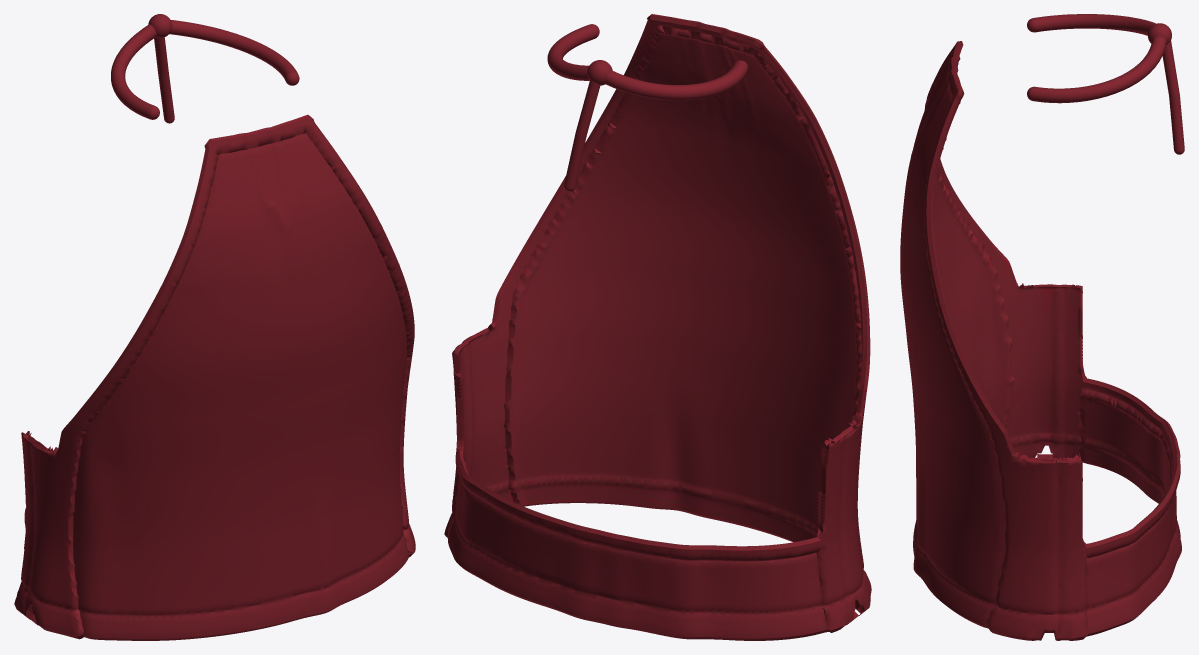
Rendered from 07_top_halter_pbr.glb.
The picture shows the model from 3 angles, left to right: view 1: azimuth 30°, elevation 25°; view 2: azimuth 150°, elevation 25°; view 3: azimuth 270°, elevation 25°; orthographic projection. The views are drawn at different scales.
Visible parts, largest first — view 1: Camiseta PBR, Cordones y adornos; view 2: Camiseta PBR, Cordones y adornos; view 3: Camiseta PBR, Cordones y adornos.
Boxes of the visible parts, x1=… form: Camiseta PBR: x1=14, y1=114, x2=415, y2=640; Cordones y adornos: x1=111, y1=14, x2=299, y2=123; Camiseta PBR: x1=444, y1=14, x2=871, y2=640; Cordones y adornos: x1=547, y1=24, x2=748, y2=191; Camiseta PBR: x1=900, y1=41, x2=1181, y2=640; Cordones y adornos: x1=1027, y1=14, x2=1184, y2=154.
Size of the model in its own units: 0.3587 by 0.4782 by 0.2342.
2 materials, 1 textured.
